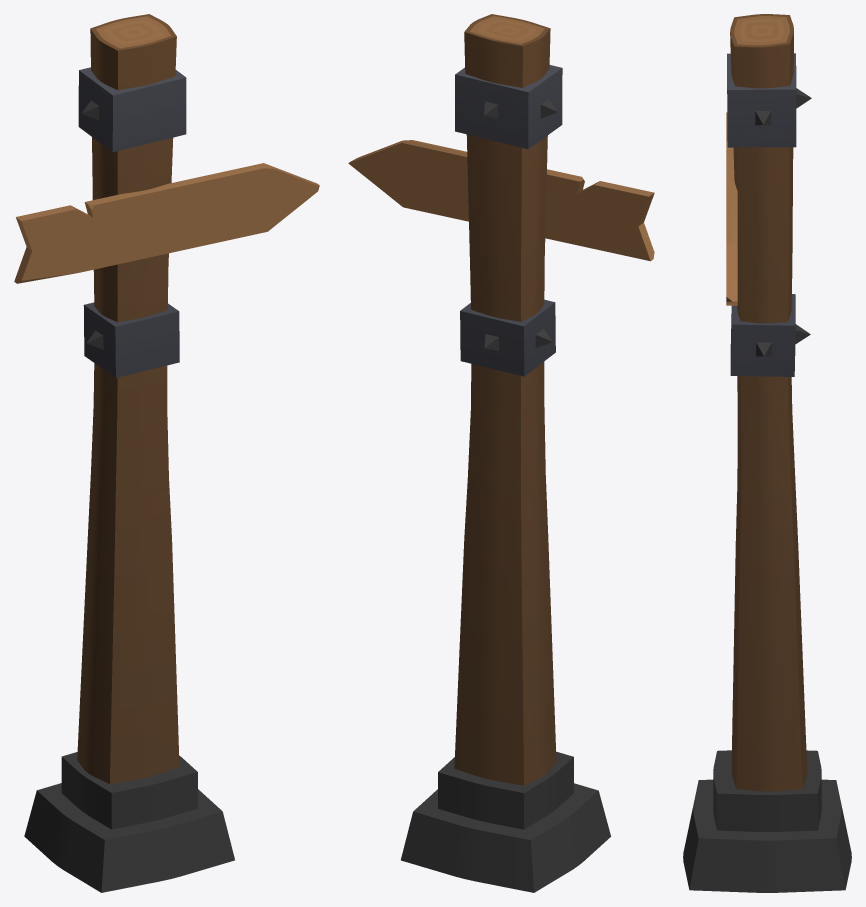
Rendered from Pointer_02.glb.
3 views of the same model, side by side, from view 1: azimuth 30°, elevation 25°; view 2: azimuth 150°, elevation 25°; view 3: azimuth 270°, elevation 25° (orthographic).
Parts seen in each view (by area): view 1: Pointer_02_LOD0; view 2: Pointer_02_LOD0; view 3: Pointer_02_LOD0.
Part boxes in pixels (left/top/right/bottom): Pointer_02_LOD0: left=14, top=14, right=319, bottom=892; Pointer_02_LOD0: left=348, top=14, right=654, bottom=892; Pointer_02_LOD0: left=683, top=14, right=851, bottom=892.
Size of what is drawn, in the model's own units: 0.9826 by 2.54 by 0.4685.
1 material, 1 textured.
